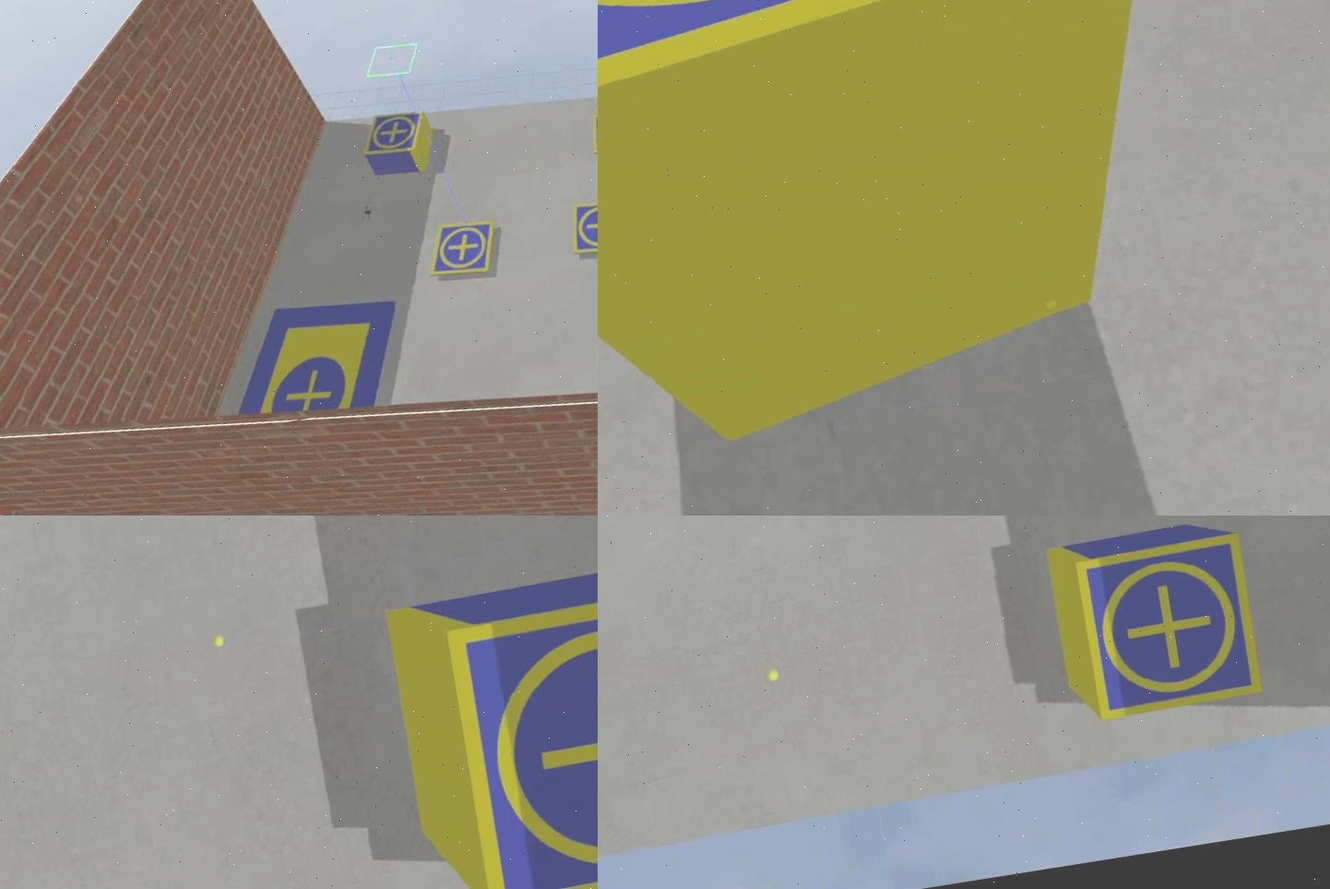large_base: (225, 290, 410, 428)
small_base: (598, 1, 1163, 160), (444, 579, 598, 889), (1073, 534, 1266, 725), (423, 218, 503, 282), (361, 108, 431, 164), (565, 195, 598, 260)
